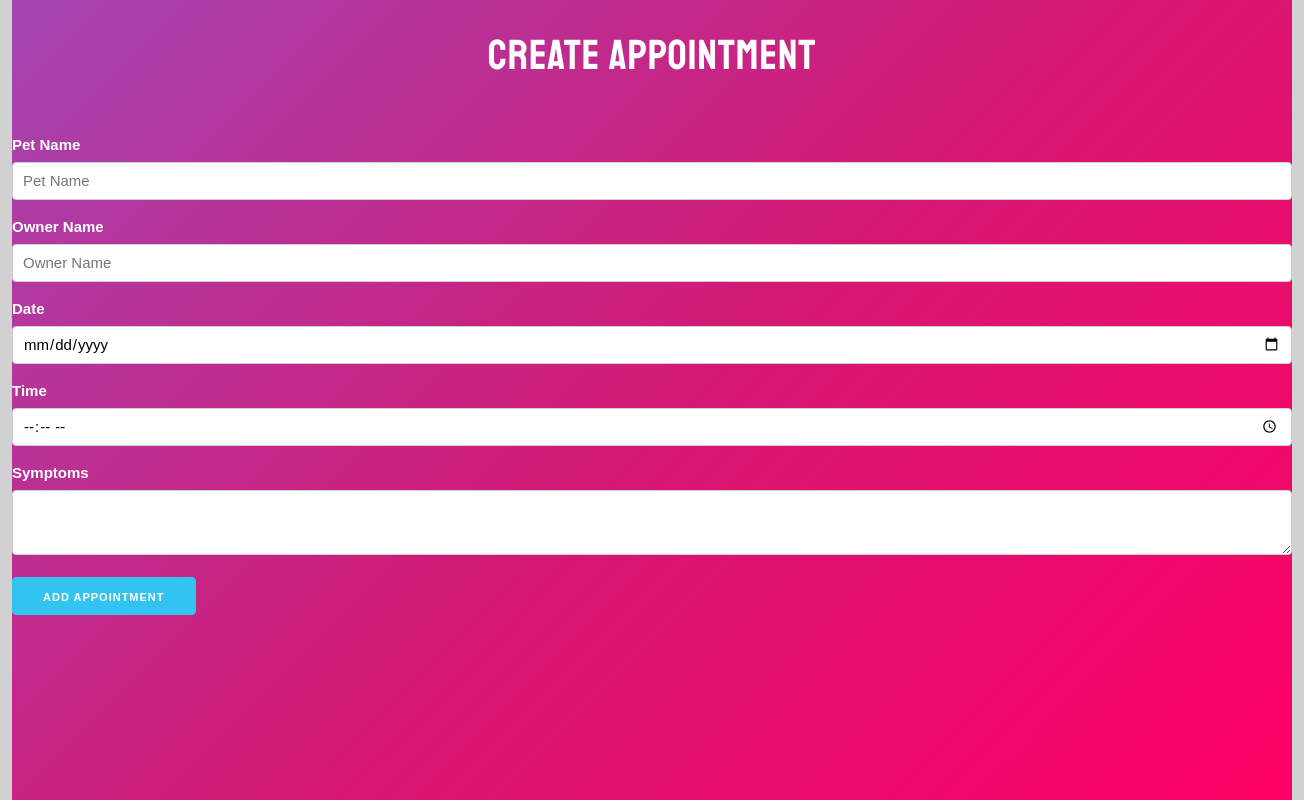
Test case: <Form /> Validate form on submit
Click the button with test id "btn-submit": coordinates (104, 596) [12,576,196,614]
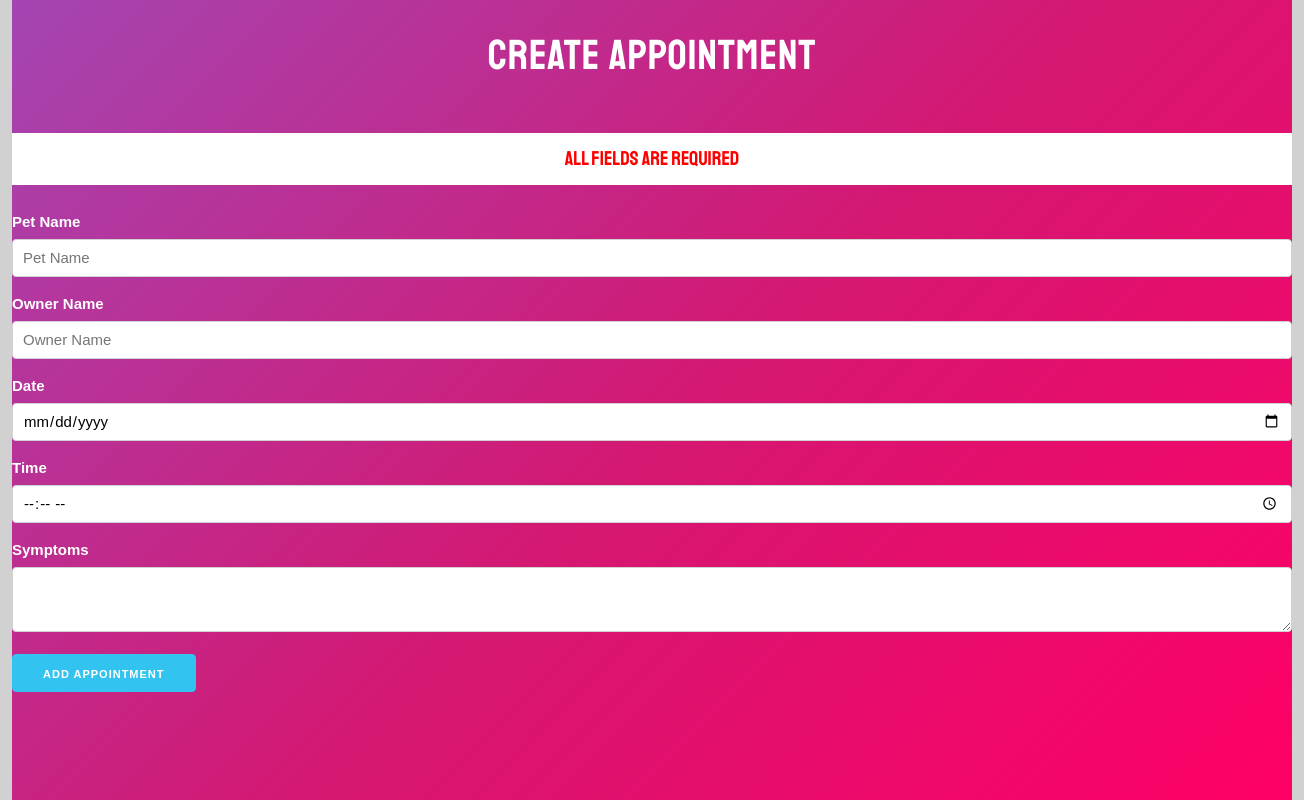
Now the text "All fields are required" is shown, box [12,132,1292,184]
Now the text with test id "alert" reads "All fields are required", box [565,146,739,170]
